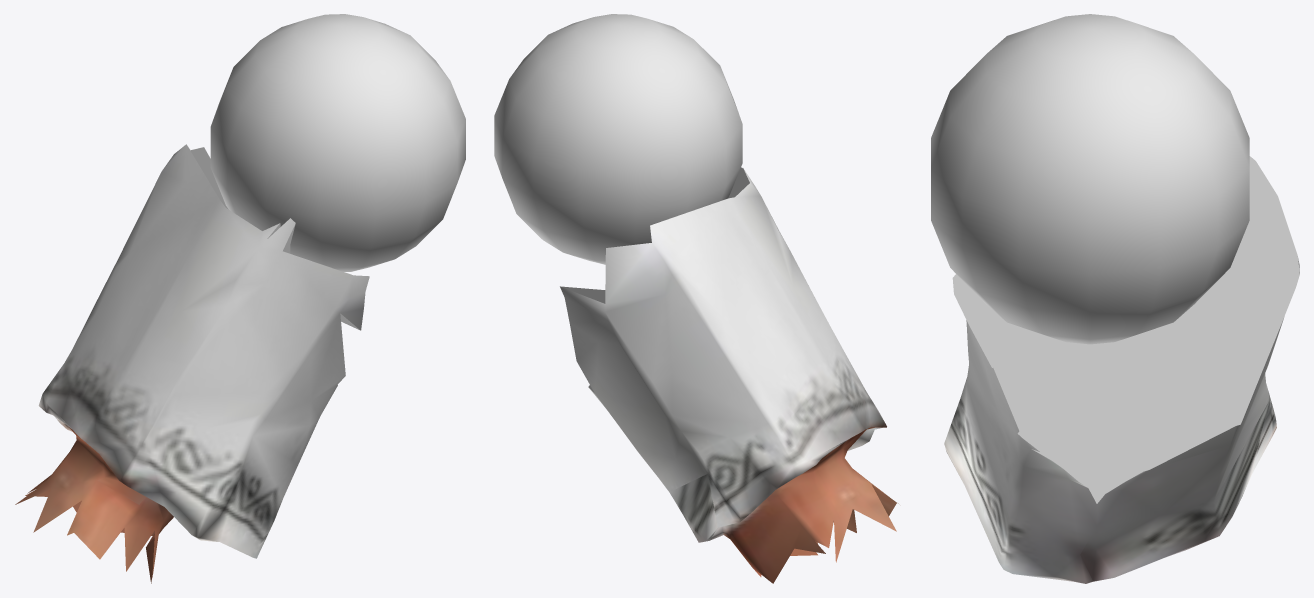
The model's file is hombre_brazo_der.obj.
The picture shows the model from 3 angles, left to right: view 1: azimuth 30°, elevation 25°; view 2: azimuth 150°, elevation 25°; view 3: azimuth 270°, elevation 25°; orthographic projection. The views are drawn at different scales.
Visible parts, largest first — view 1: hombre_brazo_der; view 2: hombre_brazo_der; view 3: hombre_brazo_der.
Boxes of the visible parts, box(x1,y1,x2,y2) form: hombre_brazo_der: box(15, 14, 465, 583); hombre_brazo_der: box(494, 14, 898, 583); hombre_brazo_der: box(931, 14, 1299, 583).
Size of the model in its own units: 0.2962 by 0.3507 by 0.1824.
